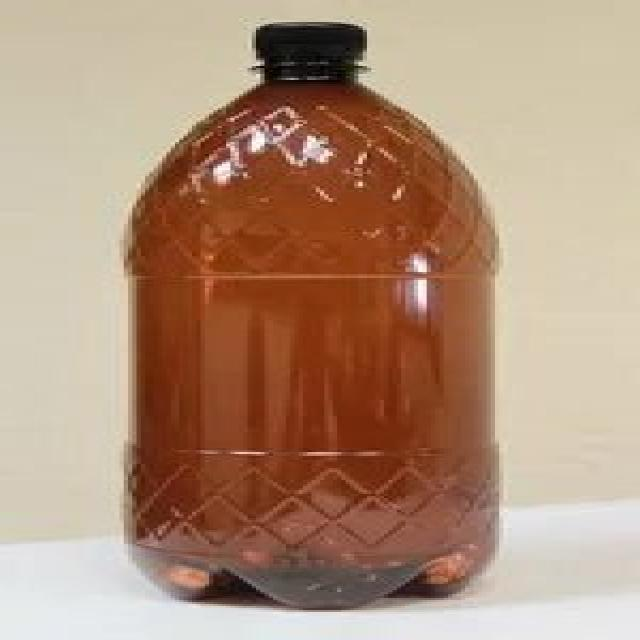brown: (132, 59, 502, 604)
